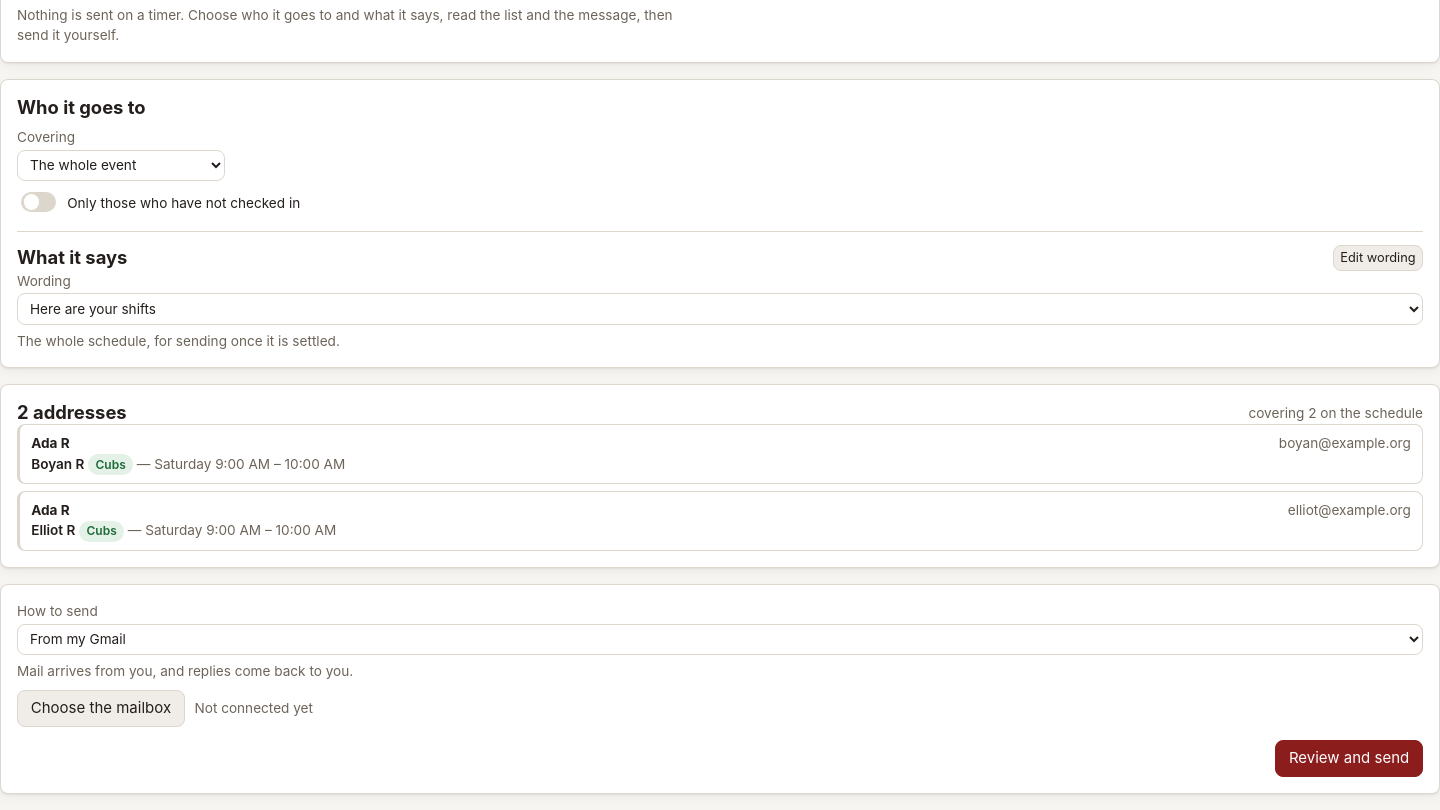
Test case: the preview › shows the real subject and body for a real recipient
(page scrolled)
Step 1. Click the button "Review and send" → (1349, 758), box [1275,740,1423,777]
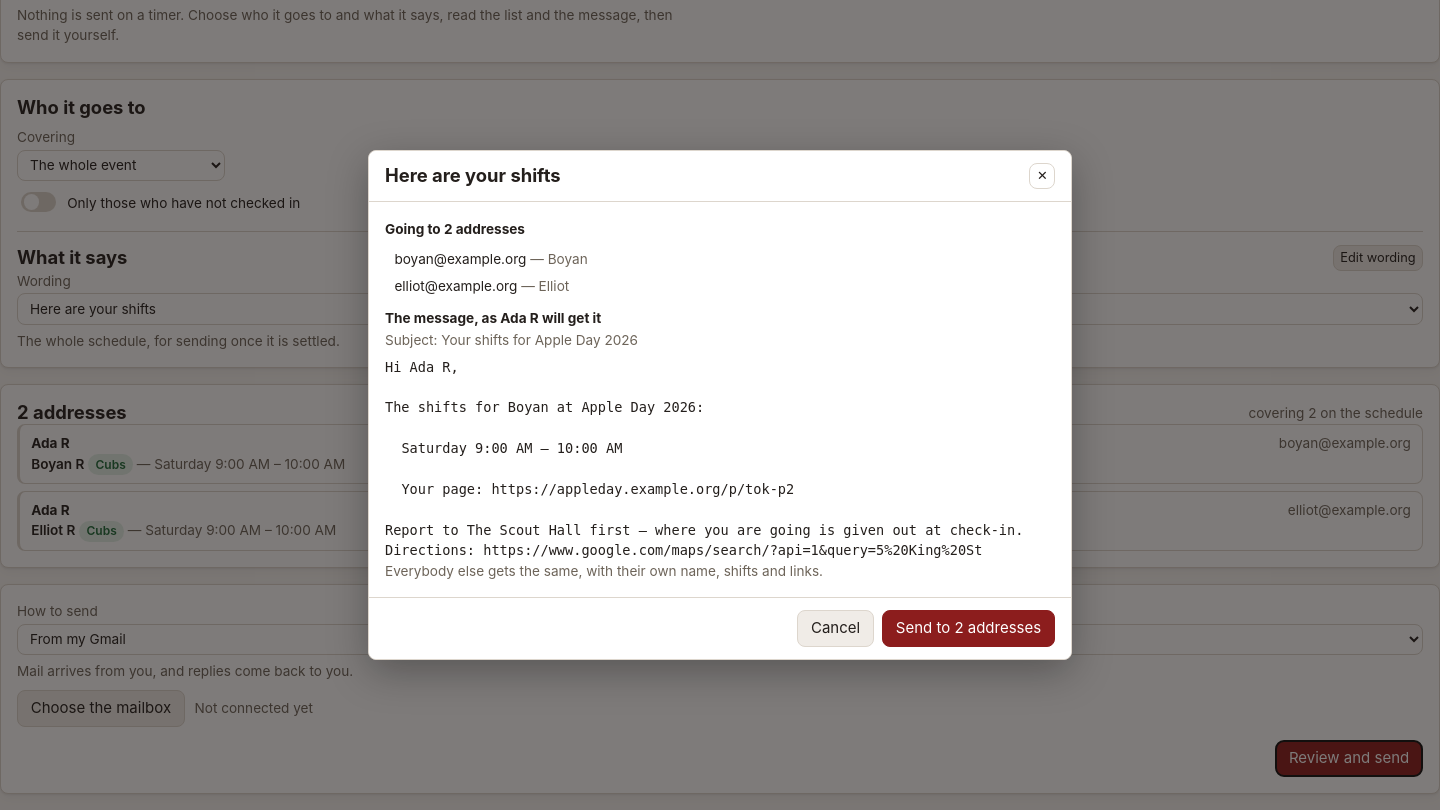
Expected: the text "Subject: Your shifts for Apple Day 2026" is shown, [385,332,638,348]
Expected: the text "appleday.example.org/p/tok-p2" is shown, [385,359,1023,558]
